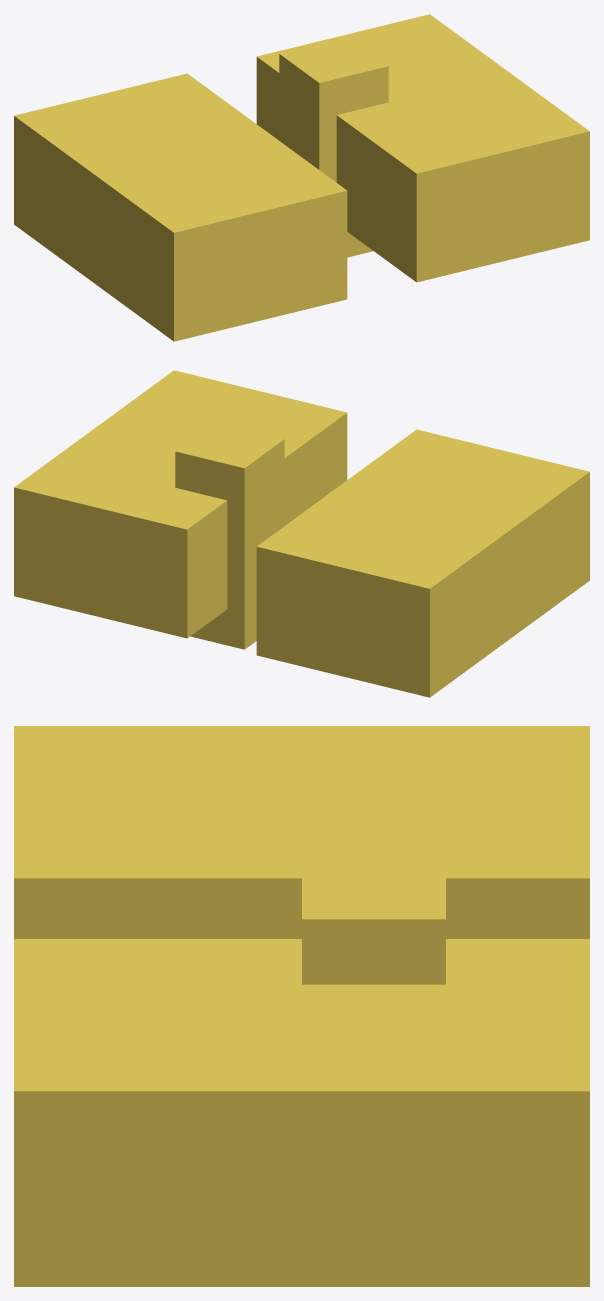
File: female_butterfly_clip.glb
The picture shows the model from 3 angles, top to bottom: view 1: azimuth 30°, elevation 25°; view 2: azimuth 150°, elevation 25°; view 3: azimuth 270°, elevation 25°; orthographic projection. The views are drawn at different scales.
Parts seen in each view (by area): view 1: ButterflyClip; view 2: ButterflyClip; view 3: ButterflyClip.
Part boxes in pixels (x1,y1,x2,y2): ButterflyClip: (14,14,589,341); ButterflyClip: (14,370,589,697); ButterflyClip: (14,726,589,1286).
Size of the model in its own units: 0.12 by 0.05 by 0.08.
